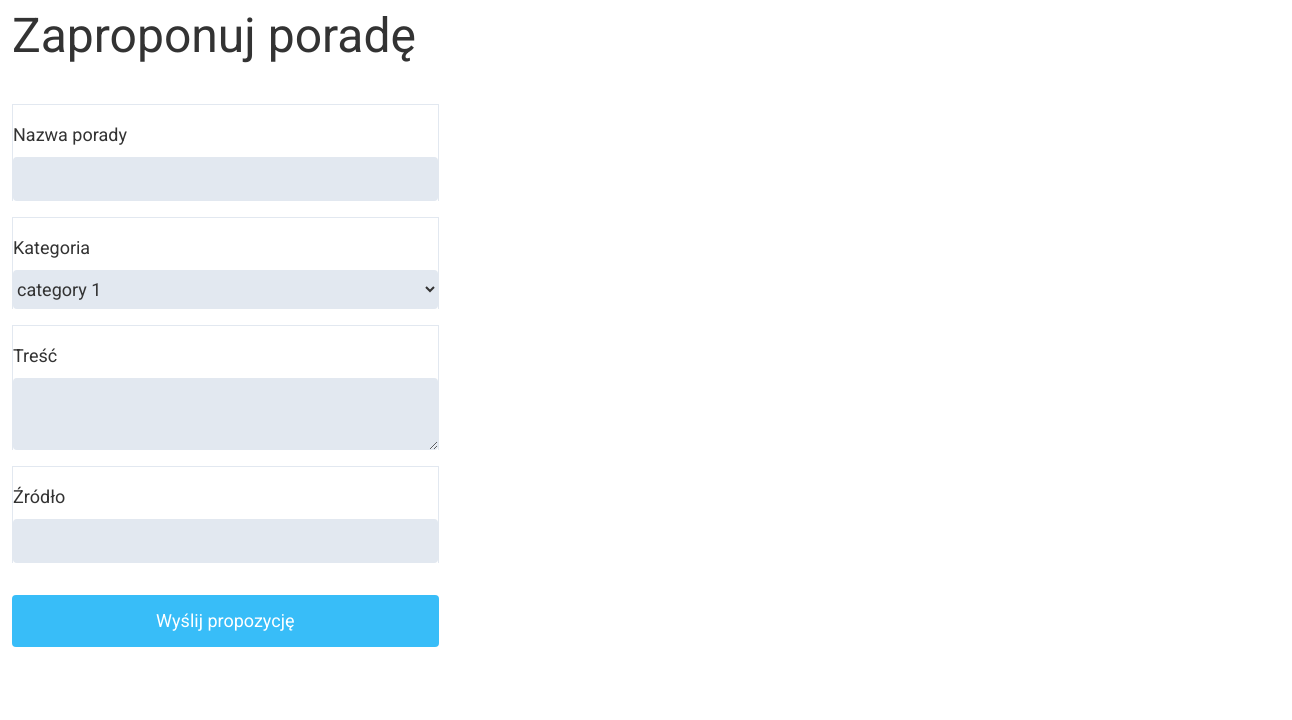
SuggestAdvice › should not submit form when captcha is not resolved
Type "name" into the field labelled "Nazwa porady" at (225, 179), box [13,157,438,201]
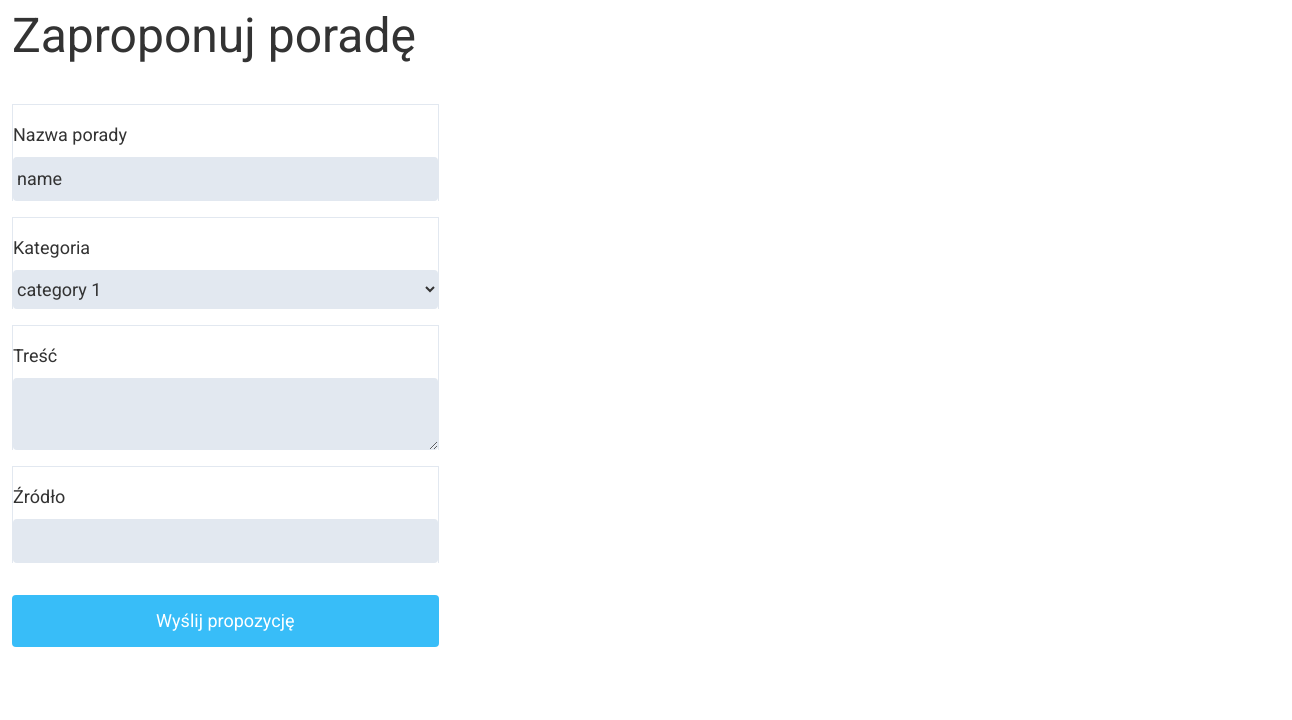
Select "category 1" in the dropdown labelled "Kategoria" at (225, 290), box [13,270,438,309]
Type "content" into the text box labelled "Treść" at (225, 414), box [13,378,438,450]
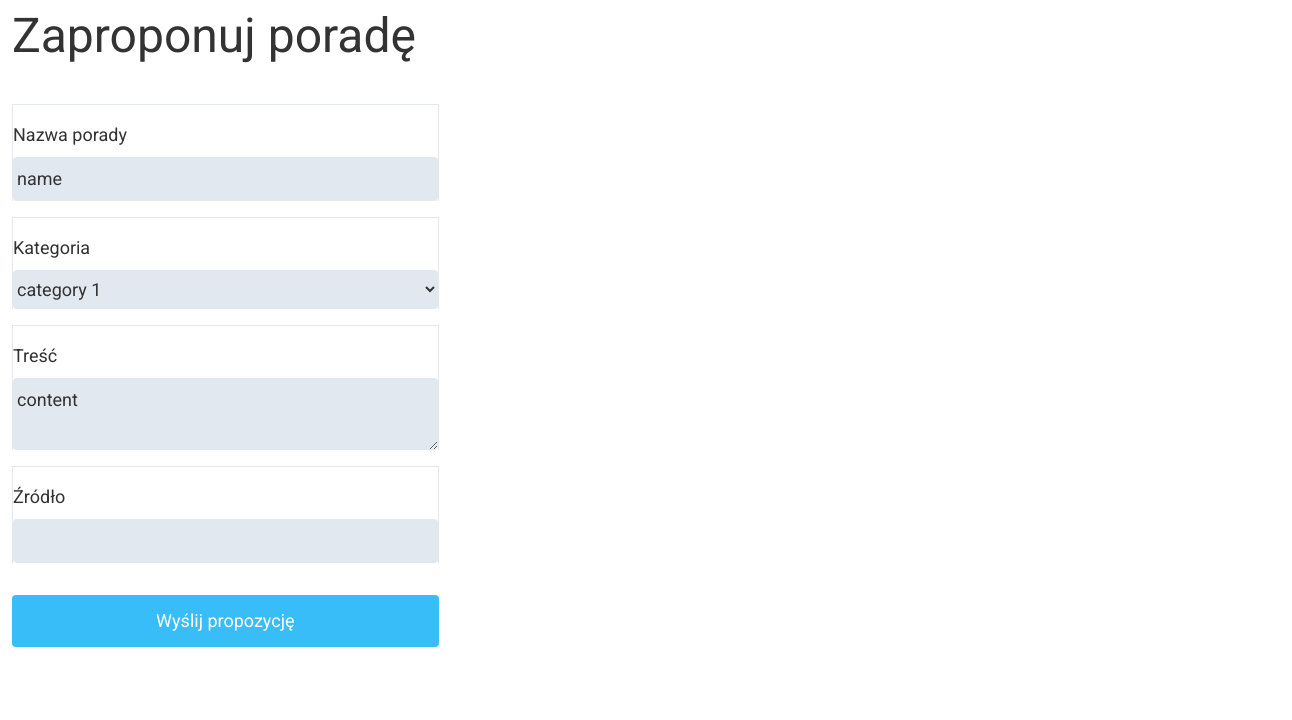
Type "source" into the field labelled "Źródło" at (225, 541), box [13,519,438,563]
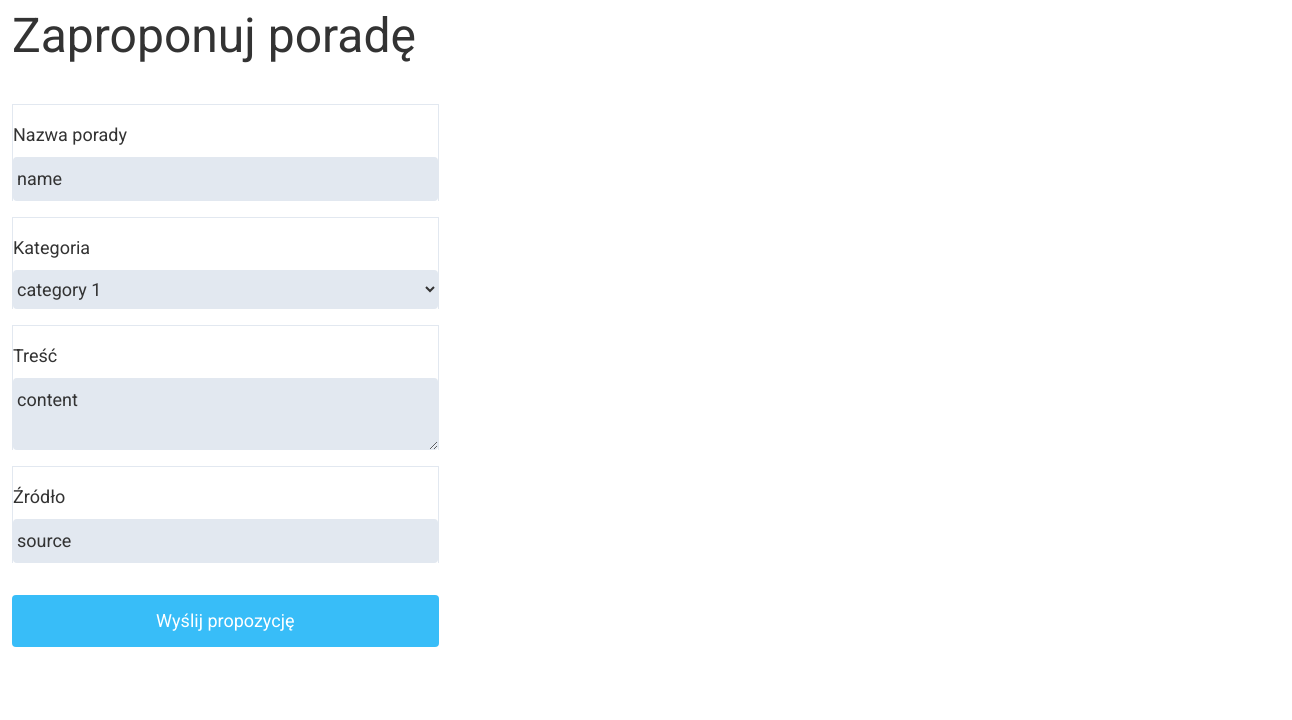
Click the button "Wyślij propozycję" at (225, 621), box [12,595,439,647]
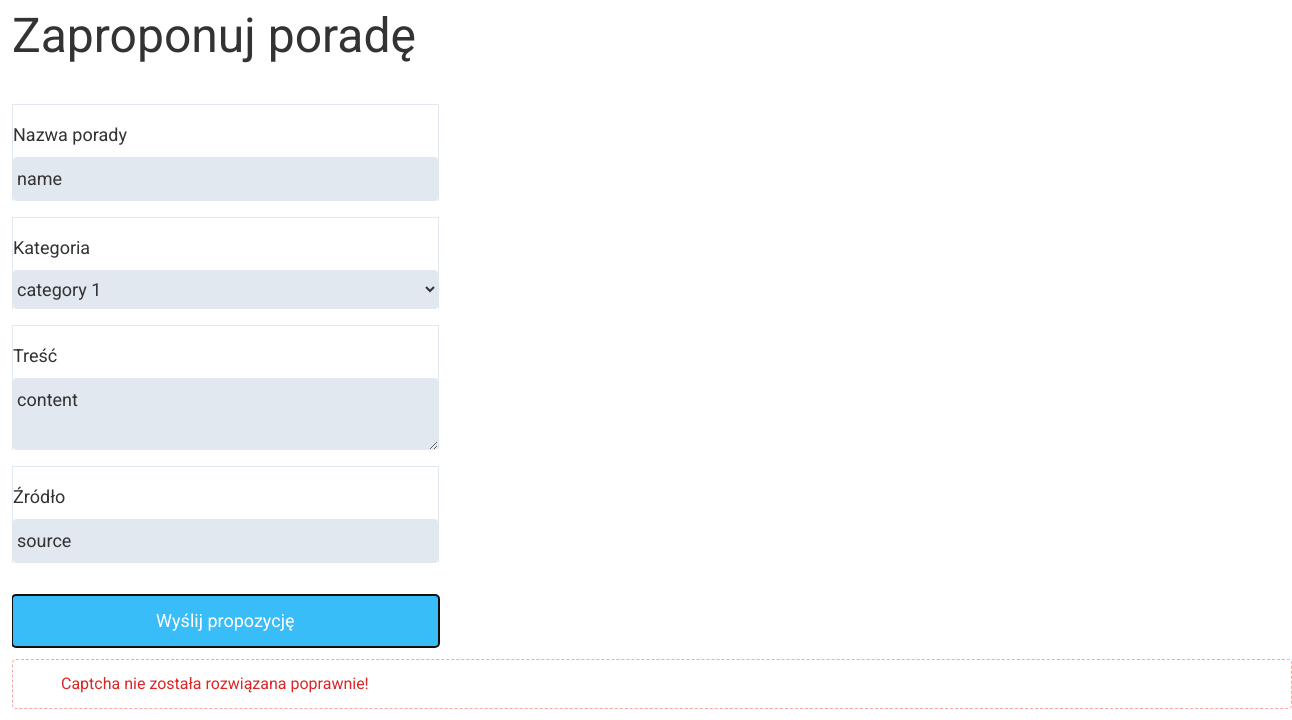
Expected: the text "Captcha nie została rozwiązana poprawnie!" is shown, [12,659,1291,709]
